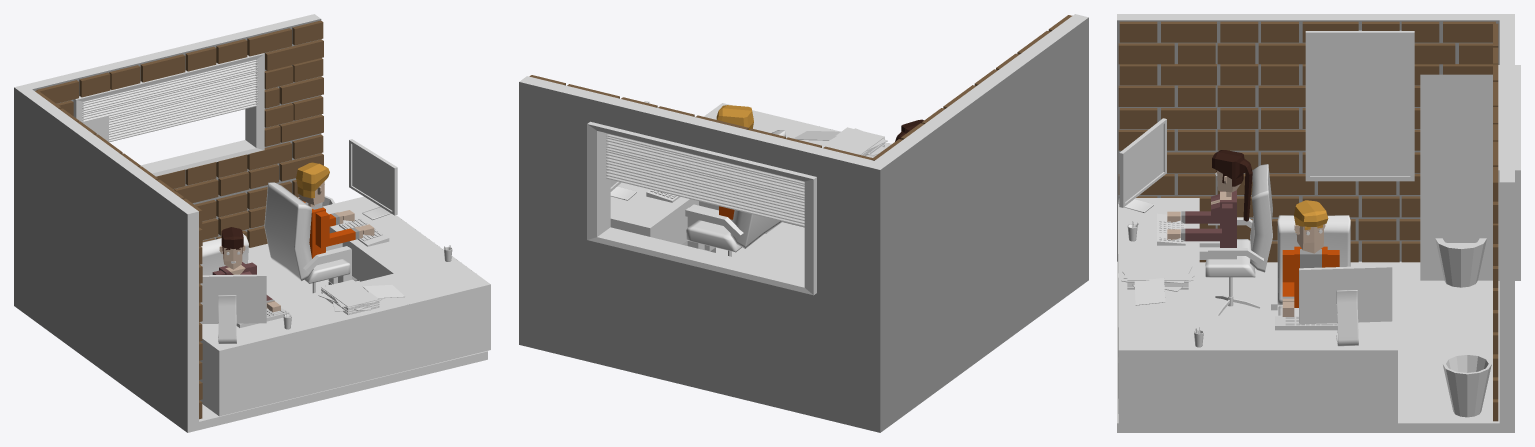
Rendered from Asset  room4.fbx.
3 renders of one model, left to right at view 1: azimuth 30°, elevation 25°; view 2: azimuth 150°, elevation 25°; view 3: azimuth 270°, elevation 25°, orthographic. The views are drawn at different scales.
Visible parts, largest first — view 1: Cube.064, Plane.058, Cube.062, Plane.051, Circle.058, Cube.060, Plane.054, Cube.008, Plane.057, Cube.063, Plane.060, Cube.061 (+2 smaller); view 2: Cube.064, Cube.060, Plane.051, Plane.058, Circle.058, Cube.008, Plane.060, Cube.062, Cube.063; view 3: Cube.063, Plane.058, Cube.064, Plane.052, Plane.050, Plane.057, Cube.061, Circle.053, Cube.008, Plane.054, Circle.048, Cube.062 (+8 smaller).
Part boxes in pixels (box(x1,y1,x2,y2)): Cube.064: box(14, 14, 487, 432); Plane.058: box(199, 196, 490, 416); Cube.062: box(36, 20, 323, 247); Plane.051: box(82, 60, 258, 142); Circle.058: box(264, 182, 351, 293); Cube.060: box(73, 53, 264, 176); Plane.054: box(199, 274, 266, 343); Cube.008: box(296, 162, 374, 284); Plane.057: box(349, 139, 397, 220); Cube.063: box(35, 90, 202, 419); Plane.060: box(318, 279, 382, 315); Cube.061: box(212, 227, 280, 312); Cube.064: box(519, 14, 1088, 432); Cube.060: box(587, 121, 816, 295); Plane.051: box(606, 133, 804, 226); Plane.058: box(610, 103, 891, 244); Circle.058: box(685, 130, 785, 256); Cube.008: box(661, 105, 753, 252); Plane.060: box(820, 127, 887, 155); Cube.062: box(529, 75, 872, 159); Cube.063: box(871, 15, 1072, 160); Cube.063: box(1118, 21, 1495, 262); Plane.058: box(1118, 198, 1397, 425); Cube.064: box(1117, 14, 1514, 432); Plane.052: box(1305, 30, 1414, 181); Plane.050: box(1420, 74, 1492, 280); Plane.057: box(1299, 265, 1392, 346); Cube.061: box(1167, 150, 1252, 259); Circle.053: box(1205, 164, 1272, 315); Cube.008: box(1282, 200, 1339, 316); Plane.054: box(1118, 118, 1166, 212); Circle.048: box(1442, 353, 1491, 417); Cube.062: box(1493, 23, 1498, 421).
Size of the model in its own units: 309 by 212 by 310.
